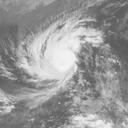cyclone: (23, 29, 78, 80)
